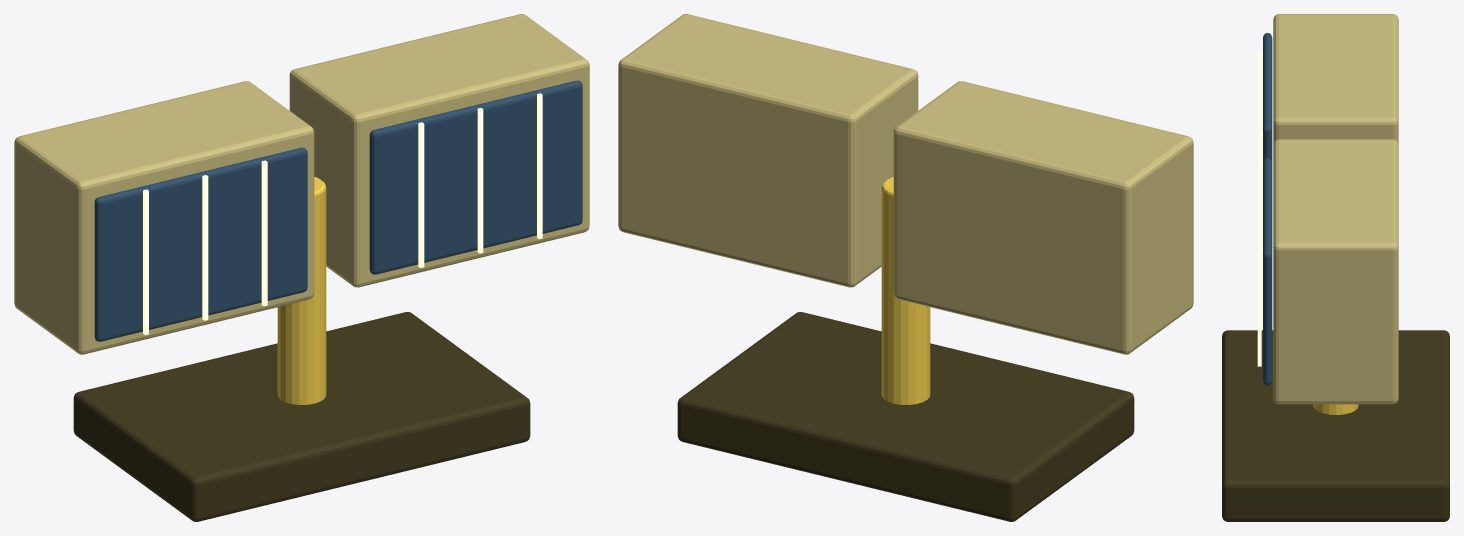
The model's file is SM_SolarArray.fbx.
The picture shows the model from 3 angles, left to right: view 1: azimuth 30°, elevation 25°; view 2: azimuth 150°, elevation 25°; view 3: azimuth 270°, elevation 25°; orthographic projection. The views are drawn at different scales.
Visible parts, largest first — view 1: SM_SolarArray; view 2: SM_SolarArray; view 3: SM_SolarArray.
Boxes of the visible parts, left/top/right/bottom form: SM_SolarArray: left=14, top=14, right=589, bottom=521; SM_SolarArray: left=618, top=14, right=1193, bottom=521; SM_SolarArray: left=1222, top=14, right=1449, bottom=521.
Size of the model in its own units: 242 by 100 by 154.
